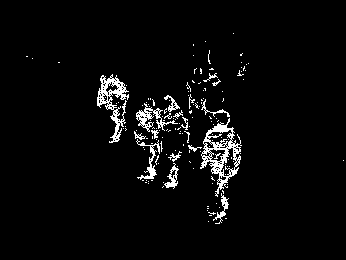person: (200, 109, 242, 226), (157, 95, 194, 191), (133, 95, 165, 185), (96, 72, 128, 145)
